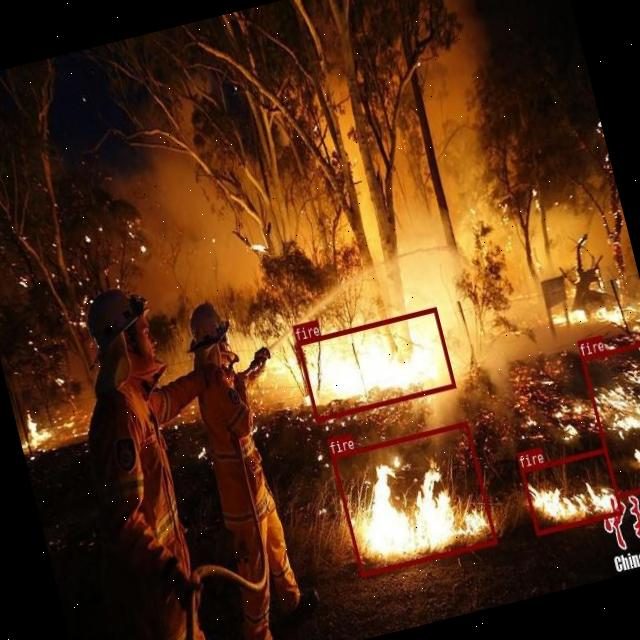fire: (331, 420, 496, 576), (295, 306, 455, 421), (579, 339, 640, 498), (520, 447, 623, 535)
